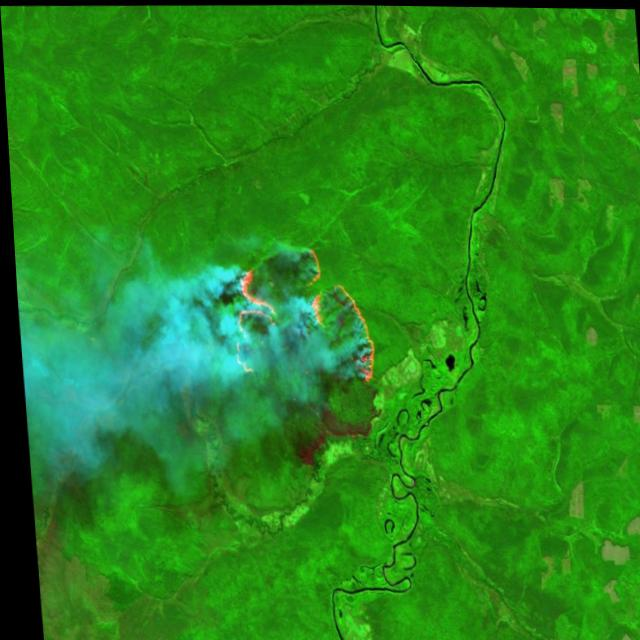fire: (217, 234, 377, 394)
